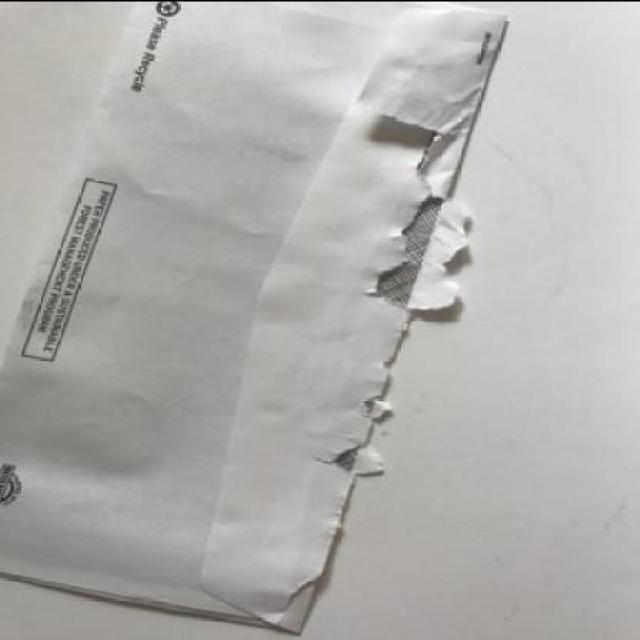PAPER: (1, 1, 514, 632)
